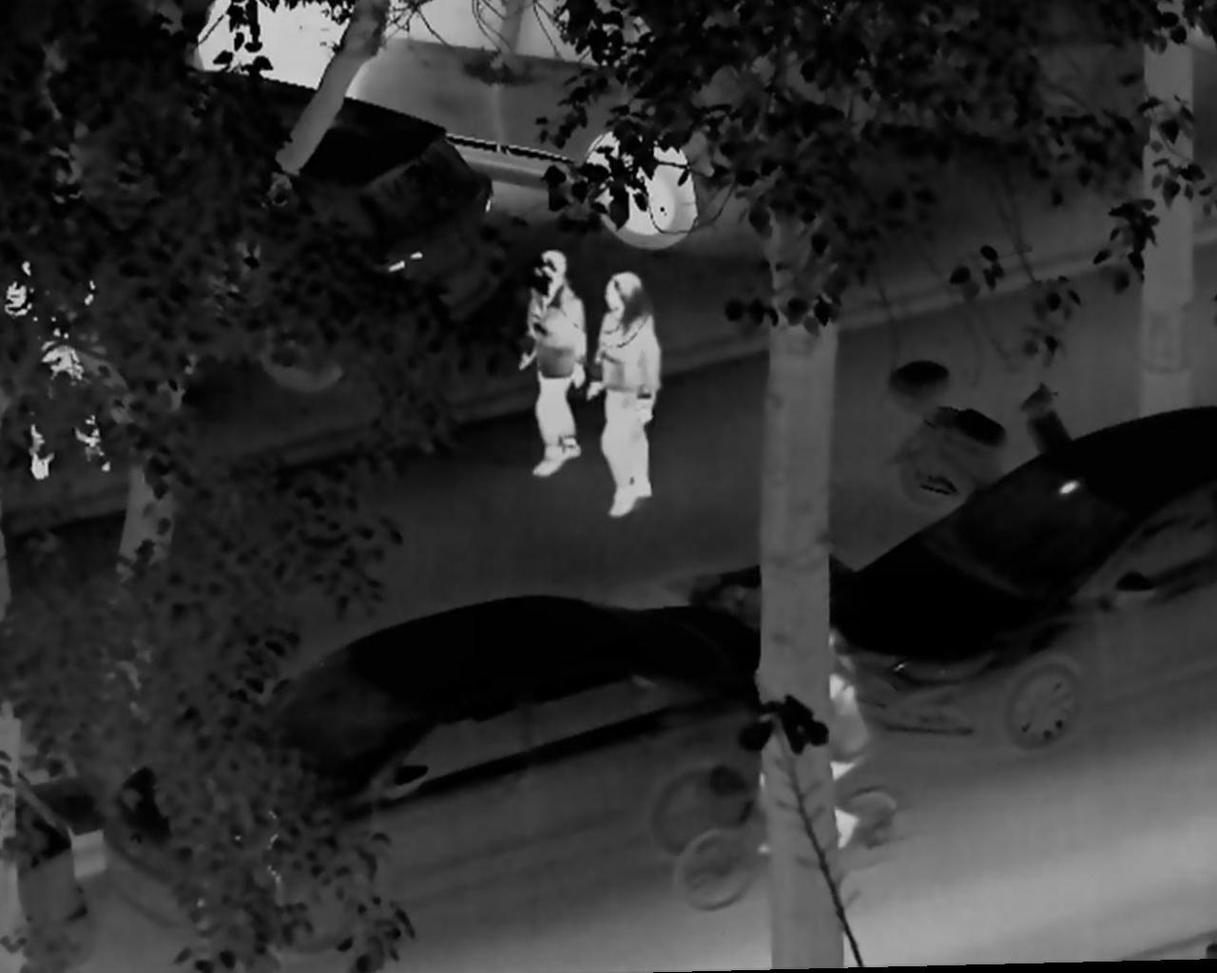person: (3, 228, 118, 485), (760, 628, 865, 863), (583, 265, 660, 518), (512, 245, 586, 481)
